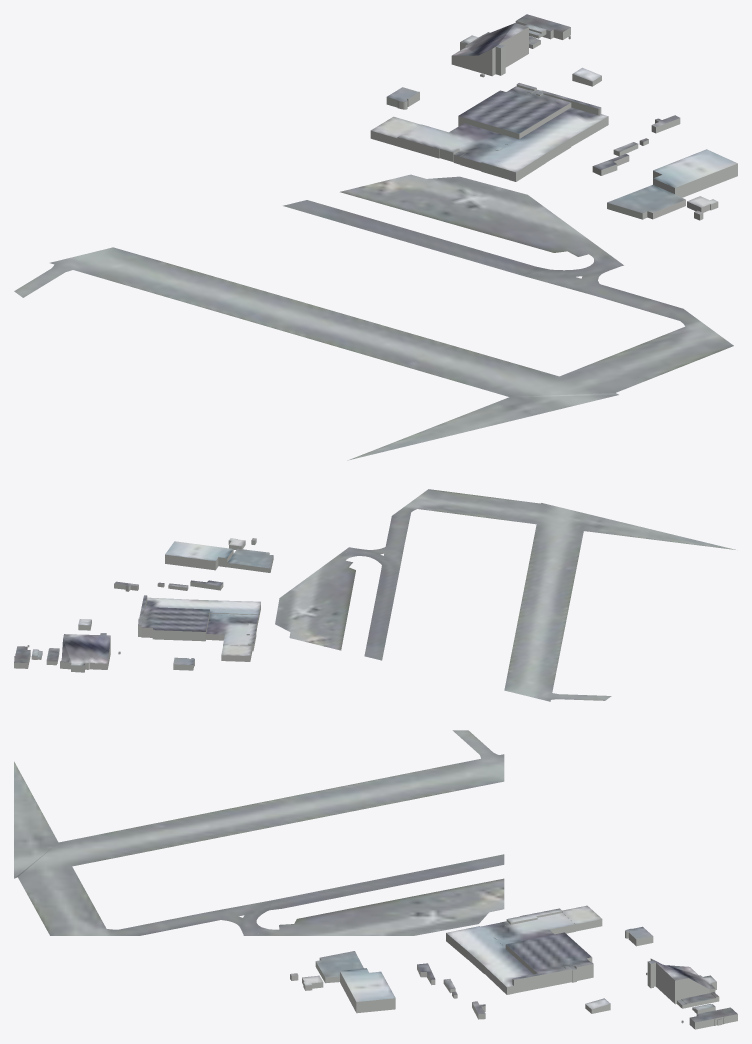
The model's file is LFSB_1_-2.glb.
The picture shows the model from 3 angles, top to bottom: view 1: azimuth 30°, elevation 25°; view 2: azimuth 150°, elevation 25°; view 3: azimuth 270°, elevation 25°; orthographic projection. The views are drawn at different scales.
Parts seen in each view (by area): view 1: pavement_LFSB_pavement_5213_2542, building_BATIMENT0000000228170143, building_BATIMENT0000000228170144, building_BATIMENT0000000048083273, building_BATIMENT0000000358878050, building_BATIMENT0000002322969095, building_BATIMENT0000000228170136, building_BATIMENT0000000228170133; view 2: pavement_LFSB_pavement_5213_2542, building_BATIMENT0000000048083273, building_BATIMENT0000000228170143, building_BATIMENT0000000358878050, building_BATIMENT0000000228170144, building_BATIMENT0000000228170136, building_BATIMENT0000002322969095, building_BATIMENT0000002493913685, building_BATIMENT0000000228170133; view 3: pavement_LFSB_pavement_5213_2542, building_BATIMENT0000000228170143, building_BATIMENT0000000228170144, building_BATIMENT0000000048083273, building_BATIMENT0000000358878050, building_BATIMENT0000000228170136, building_BATIMENT0000002322969095, building_BATIMENT0000002493913722, building_BATIMENT0000000228170125, building_BATIMENT0000000228170133.
Boxes of the visible parts, <box> form: pavement_LFSB_pavement_5213_2542: <box>14,174,733,460</box>; building_BATIMENT0000000228170143: <box>464,86,571,139</box>; building_BATIMENT0000000228170144: <box>481,107,598,179</box>; building_BATIMENT0000000048083273: <box>451,23,528,76</box>; building_BATIMENT0000000358878050: <box>653,149,737,197</box>; building_BATIMENT0000002322969095: <box>607,185,685,219</box>; building_BATIMENT0000000228170136: <box>418,123,518,170</box>; building_BATIMENT0000000228170133: <box>370,116,420,146</box>; pavement_LFSB_pavement_5213_2542: <box>275,489,735,701</box>; building_BATIMENT0000000048083273: <box>60,633,110,672</box>; building_BATIMENT0000000228170143: <box>138,607,209,637</box>; building_BATIMENT0000000358878050: <box>165,541,233,570</box>; building_BATIMENT0000000228170144: <box>146,599,260,619</box>; building_BATIMENT0000000228170136: <box>206,613,258,645</box>; building_BATIMENT0000002322969095: <box>227,548,273,572</box>; building_BATIMENT0000002493913685: <box>152,628,206,641</box>; building_BATIMENT0000000228170133: <box>221,645,252,661</box>; pavement_LFSB_pavement_5213_2542: <box>14,730,504,935</box>; building_BATIMENT0000000228170143: <box>505,933,590,982</box>; building_BATIMENT0000000228170144: <box>453,926,533,983</box>; building_BATIMENT0000000048083273: <box>647,958,716,1004</box>; building_BATIMENT0000000358878050: <box>340,968,395,1013</box>; building_BATIMENT0000000228170136: <box>481,920,575,948</box>; building_BATIMENT0000002322969095: <box>315,951,363,983</box>; building_BATIMENT0000002493913722: <box>512,967,571,993</box>; building_BATIMENT0000000228170125: <box>689,1007,737,1029</box>; building_BATIMENT0000000228170133: <box>562,905,602,931</box>.
Bounding box in the file's own units: 711 × 29.9 × 738.
Materials: 3 (2 with a texture image).
